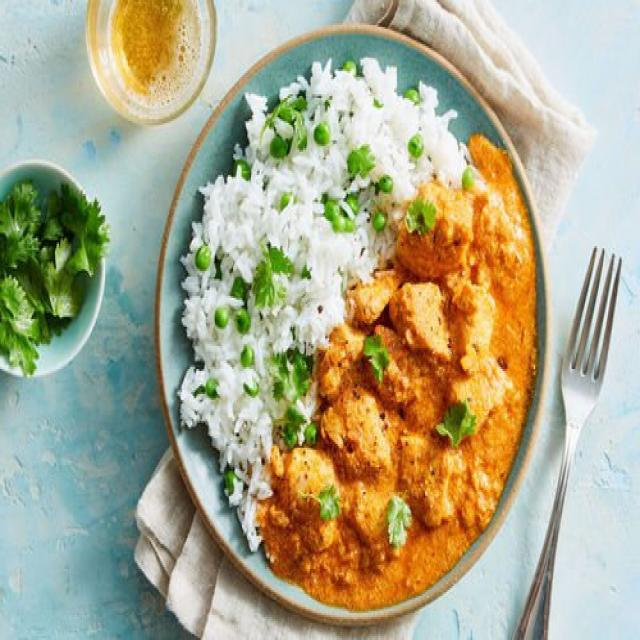Butter Chicken: (261, 136, 543, 619)
White Rice: (183, 60, 401, 272)
